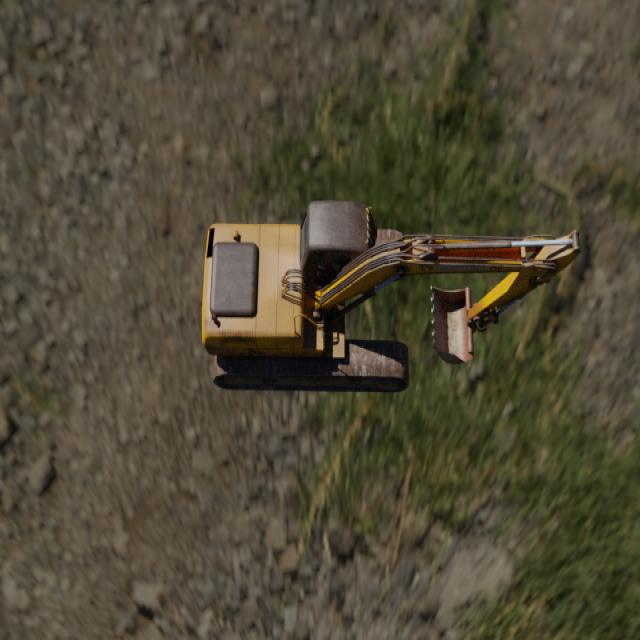excavator: (201, 199, 581, 392)
